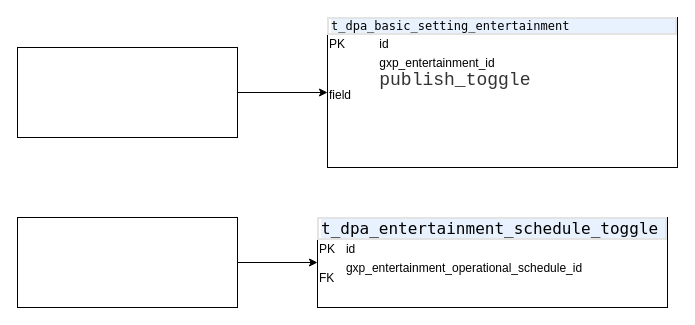
Image size: 695x325. Some labels were removed from this diagram. Each missing label, with the centre of its shape:
"ENTRTN_OPER_SCH PK GXP_ENTRTN_OPER_SCH_ID" belongs at point (127, 262).
"gxp_entrtn PK GXP_ENTRTN_ID" belongs at point (127, 92).
